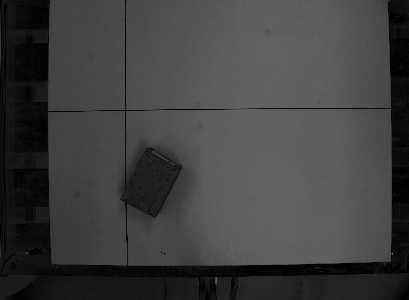b6: (117, 145, 182, 219)
